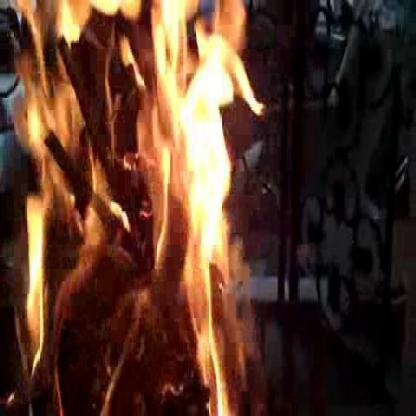fire: (0, 0, 270, 413)
